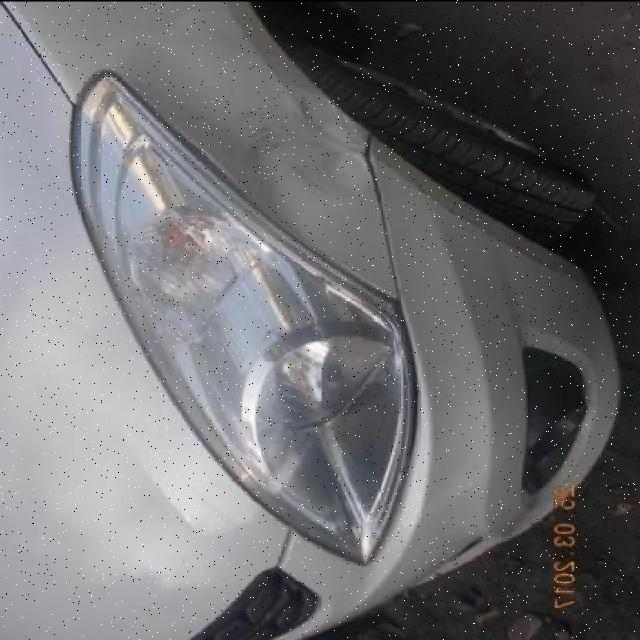damage: (227, 93, 377, 201)
